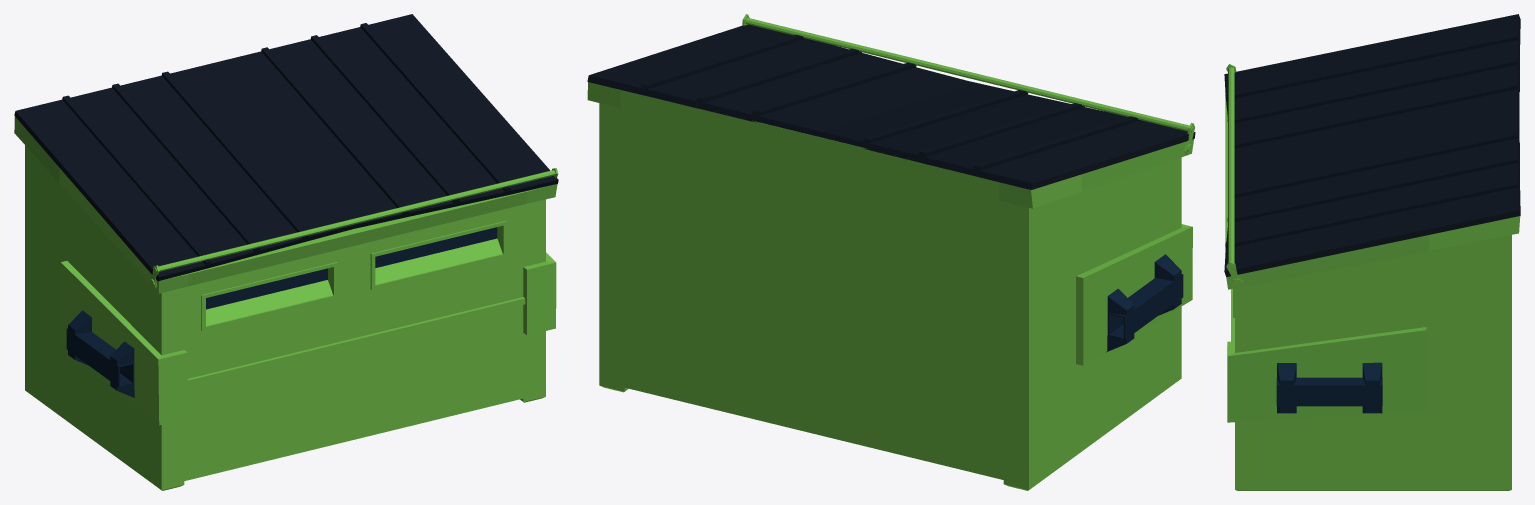
The model's file is dumpster.fbx.
3 views of the same model, side by side, from view 1: azimuth 30°, elevation 25°; view 2: azimuth 150°, elevation 25°; view 3: azimuth 270°, elevation 25° (orthographic). The views are drawn at different scales.
Parts seen in each view (by area): view 1: 4. dumpster; view 2: 4. dumpster; view 3: 4. dumpster.
Boxes of the visible parts, x1,y1,x2,y2 form: 4. dumpster: (14, 14, 558, 490); 4. dumpster: (587, 14, 1195, 490); 4. dumpster: (1224, 14, 1520, 490).
Size of the model in its own units: 2.37 by 1.5 by 1.4.
